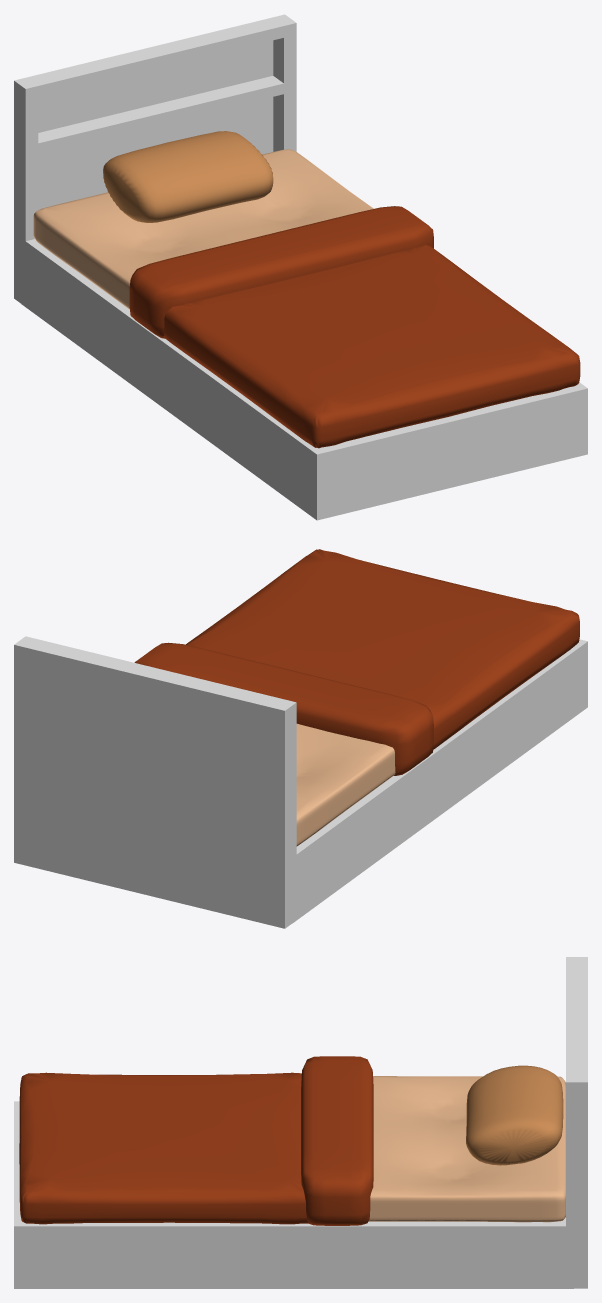
Rendered from bed_tier6.fbx.
The picture shows the model from 3 angles, top to bottom: view 1: azimuth 30°, elevation 25°; view 2: azimuth 150°, elevation 25°; view 3: azimuth 270°, elevation 25°; orthographic projection. The views are drawn at different scales.
Parts seen in each view (by area): view 1: Cube, Cube.002, Cube.001, Cylinder.012; view 2: Cube, Cube.002, Cube.001; view 3: Cube.002, Cube, Cube.001, Cylinder.012.
Part boxes in pixels (x1,y1,x2,y2): Cube: (14,14,587,520); Cube.002: (129,206,580,448); Cube.001: (33,149,373,309); Cylinder.012: (103,131,273,222); Cube: (14,636,587,928); Cube.002: (134,549,579,775); Cube.001: (296,723,395,846); Cube.002: (19,1056,373,1225); Cube: (14,957,587,1288); Cube.001: (368,1076,565,1222); Cylinder.012: (466,1065,563,1165).
Bounding box in the file's own units: 196 × 145 × 366.
